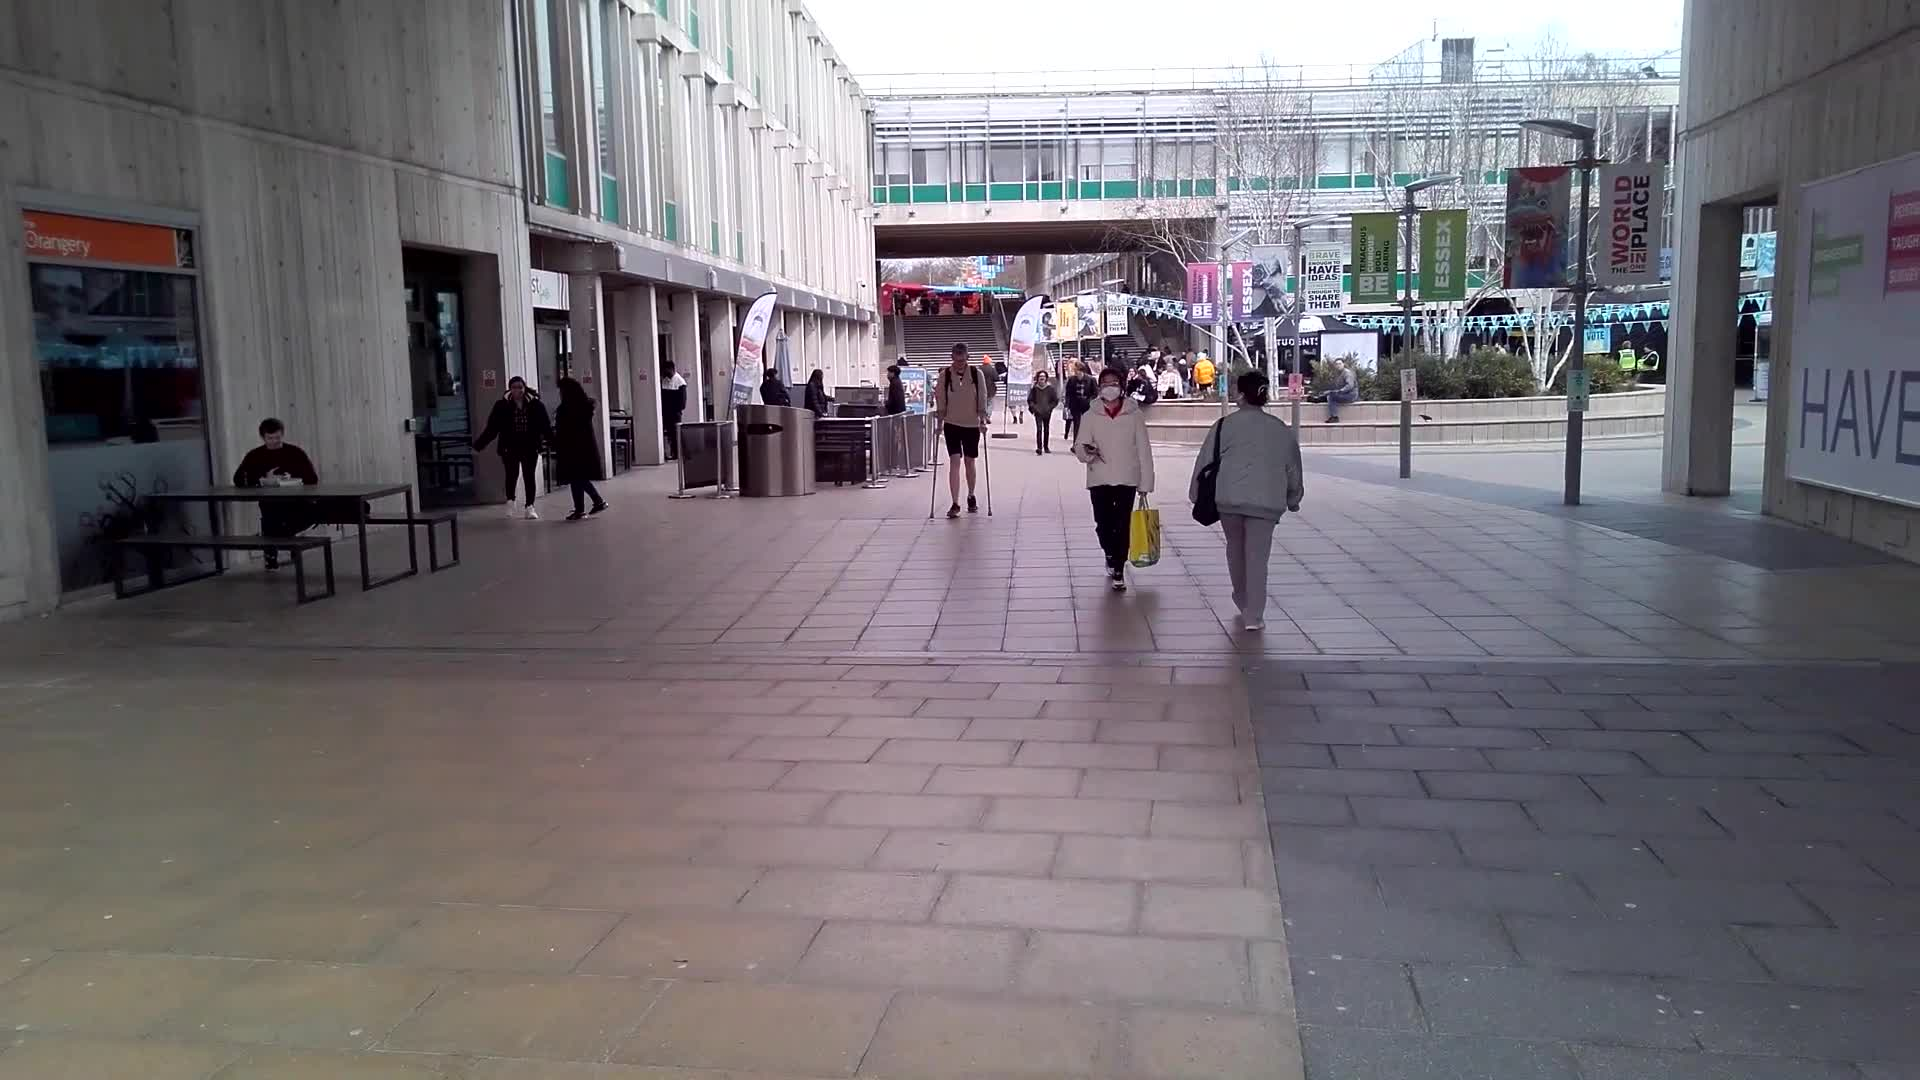Backpack: (1186, 458, 1229, 531), (1125, 497, 1166, 566)
Bin: (733, 403, 825, 506)
Person: (1082, 371, 1158, 595), (1222, 375, 1278, 633), (236, 418, 321, 557), (936, 341, 993, 517), (488, 377, 549, 519), (556, 373, 602, 522), (660, 355, 684, 466), (1321, 355, 1358, 422), (1028, 370, 1058, 455)
